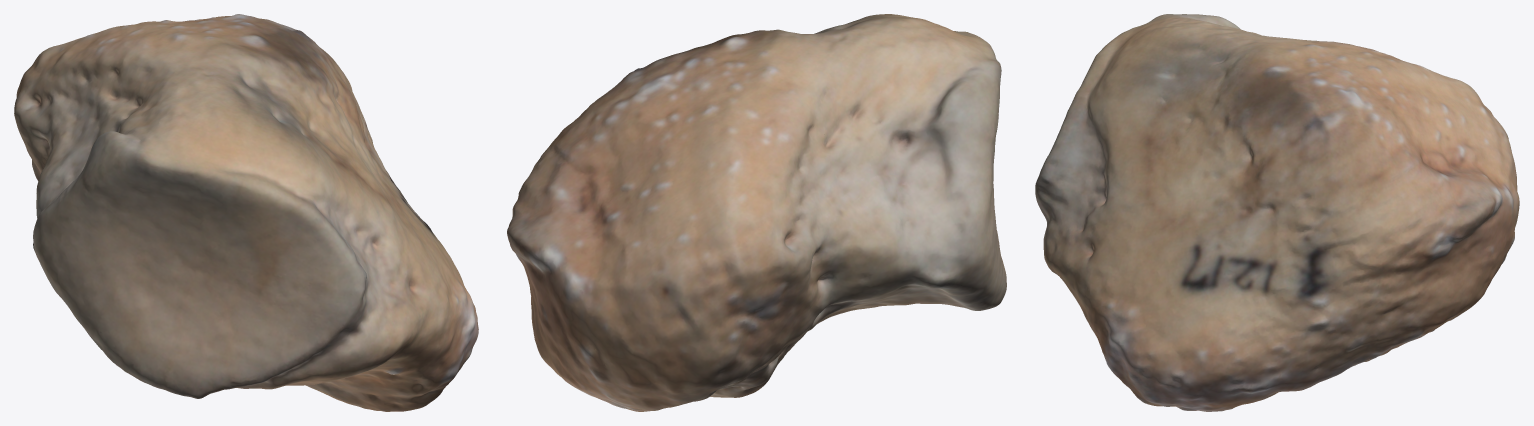
3 views of the same model, side by side, from view 1: azimuth 30°, elevation 25°; view 2: azimuth 150°, elevation 25°; view 3: azimuth 270°, elevation 25° (orthographic). The views are drawn at different scales.
Visible parts, largest first — view 1: Node; view 2: Node; view 3: Node.
Part boxes in pixels (box(x1,y1,x2,y2)): Node: box(14, 14, 478, 411); Node: box(507, 14, 1006, 411); Node: box(1035, 14, 1519, 411).
Size of the model in its own units: 25.91 by 22.75 by 32.2.
Materials: 1 (1 with a texture image).
